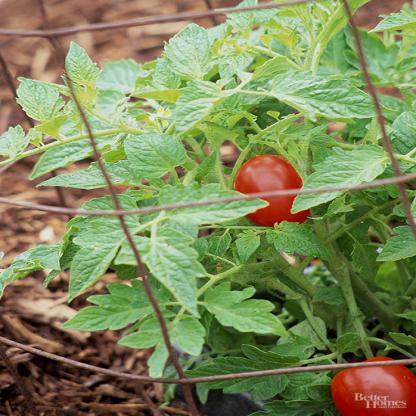tomato leaf: (293, 140, 402, 212), (64, 215, 152, 303), (129, 223, 210, 312), (267, 74, 394, 125), (185, 347, 307, 397), (194, 284, 285, 341), (58, 279, 154, 333), (26, 128, 107, 181), (160, 23, 225, 82), (164, 188, 264, 225), (123, 128, 182, 181), (261, 219, 333, 261), (16, 78, 65, 123), (56, 41, 96, 95)
